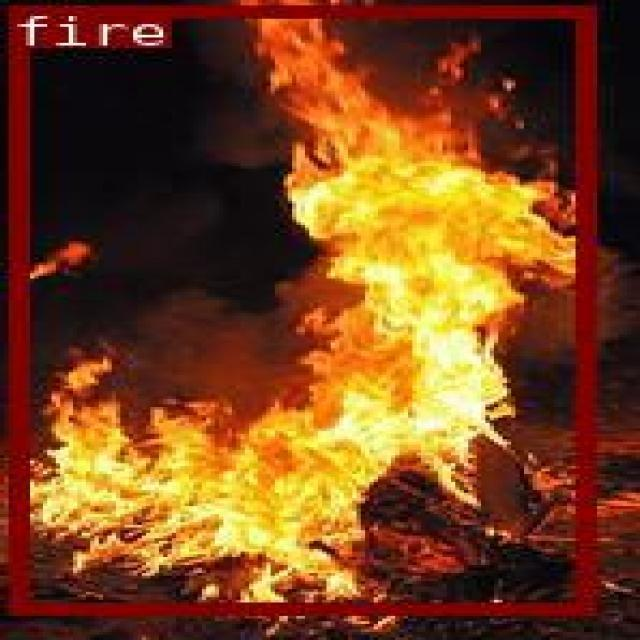fire: (6, 5, 590, 612)
